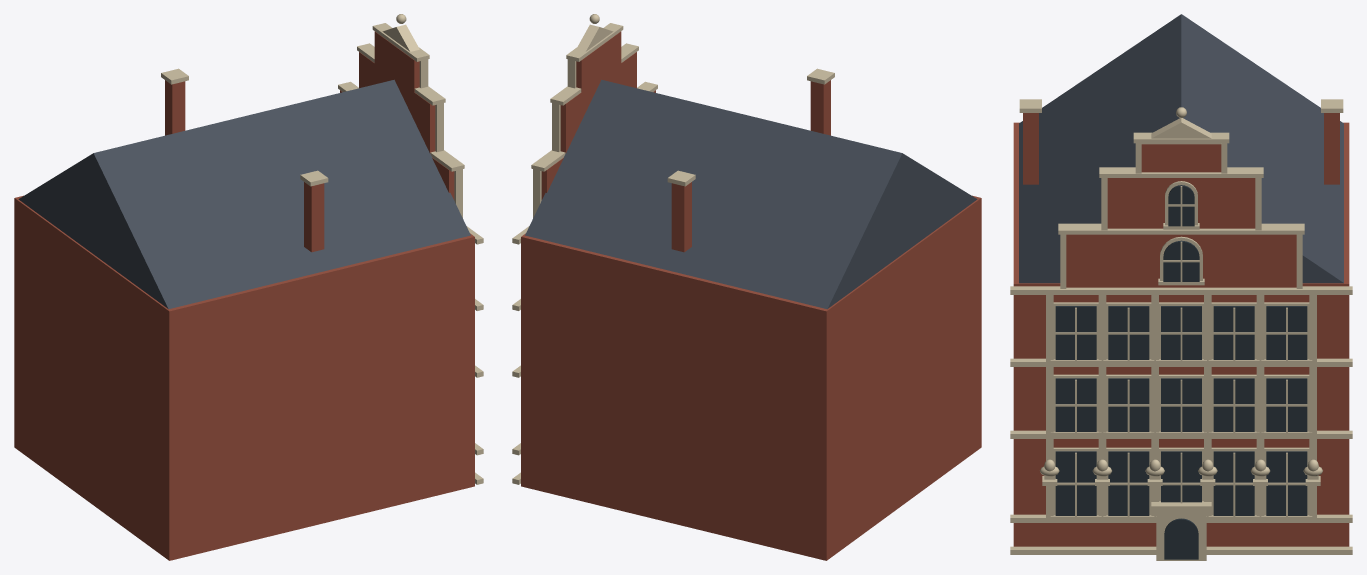
The model's file is embassy-free-mind.glb.
3 renders of one model, left to right at view 1: azimuth 30°, elevation 25°; view 2: azimuth 150°, elevation 25°; view 3: azimuth 270°, elevation 25°, orthographic. The views are drawn at different scales.
Parts seen in each view (by area): view 1: embassy-free-mind; view 2: embassy-free-mind; view 3: embassy-free-mind.
Boxes of the visible parts, x1,y1,x2,y2 form: embassy-free-mind: (14, 14, 483, 560); embassy-free-mind: (512, 14, 981, 560); embassy-free-mind: (1010, 14, 1352, 560).
Size of the model in its own units: 19.94 by 24.58 by 17.
